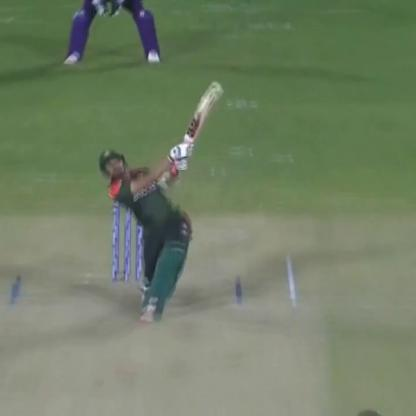pitch: (2, 247, 316, 415)
